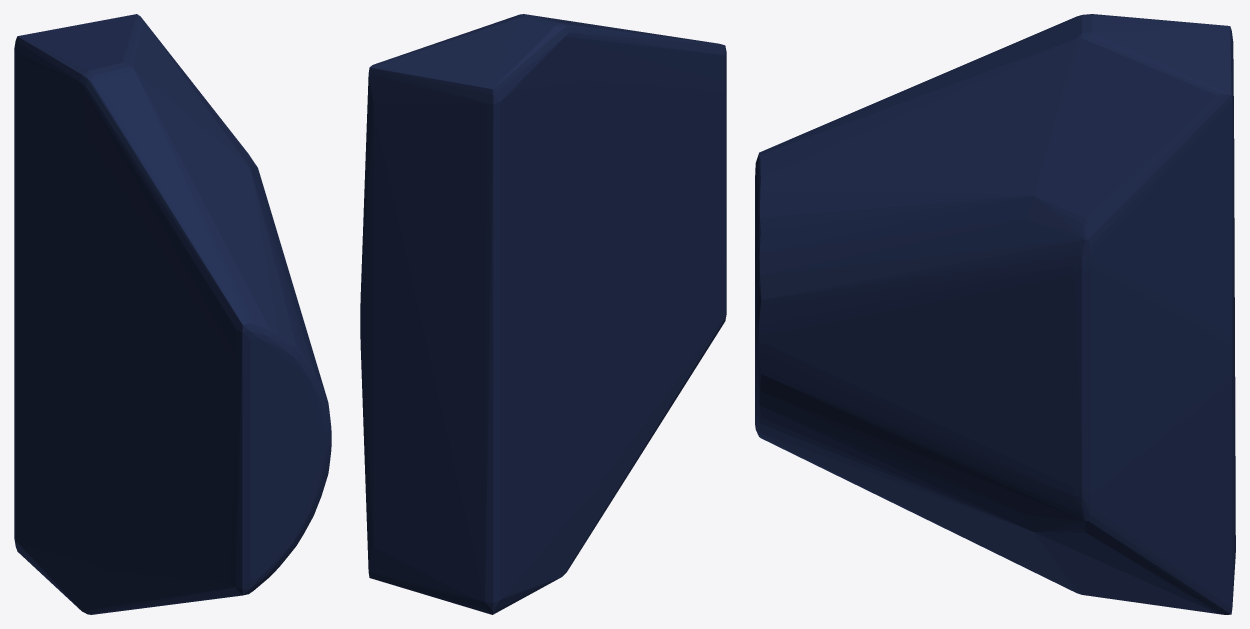
The picture shows the model from 3 angles, left to right: view 1: azimuth 30°, elevation 25°; view 2: azimuth 150°, elevation 25°; view 3: azimuth 270°, elevation 25°; orthographic projection. The views are drawn at different scales.
Bounding box in the file's own units: 0.0642 × 0.1853 × 0.1437.
